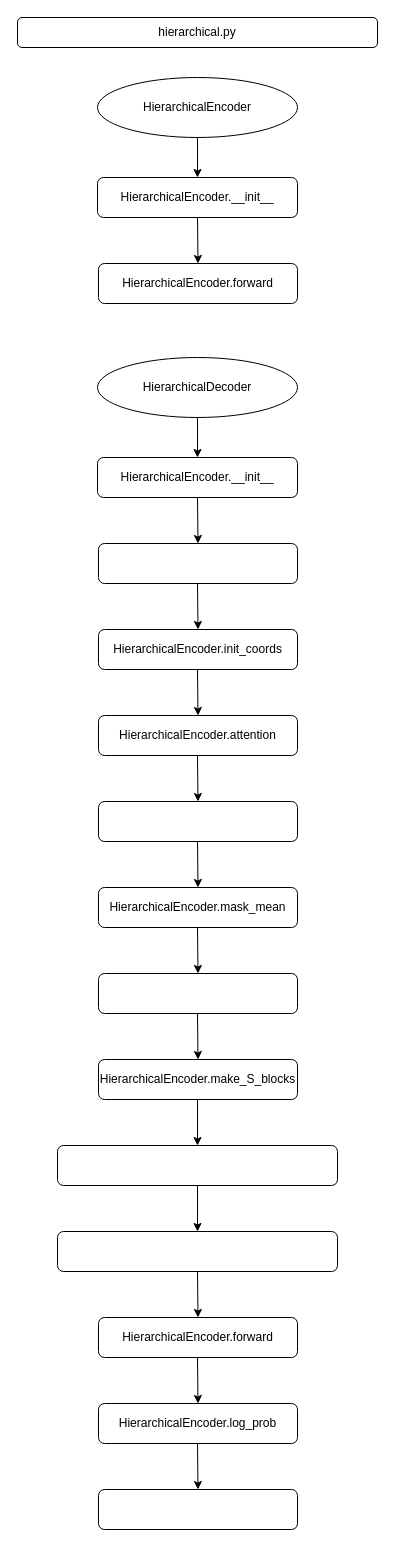
This 395x1547 diagram has some shape labels left out. Each missing label, with the box of its shape:
HierarchicalEncoder.generate: (98, 1488, 298, 1530)
HierarchicalEncoder.get_completion_mask: (56, 1144, 338, 1186)
HierarchicalEncoder.init_struct: (98, 542, 298, 584)
HierarchicalEncoder.make_X_blocks: (98, 972, 298, 1014)
HierarchicalEncoder.predict_dist: (98, 800, 298, 842)
HierarchicalEncoder.remove_cdr_coords: (56, 1230, 338, 1272)
